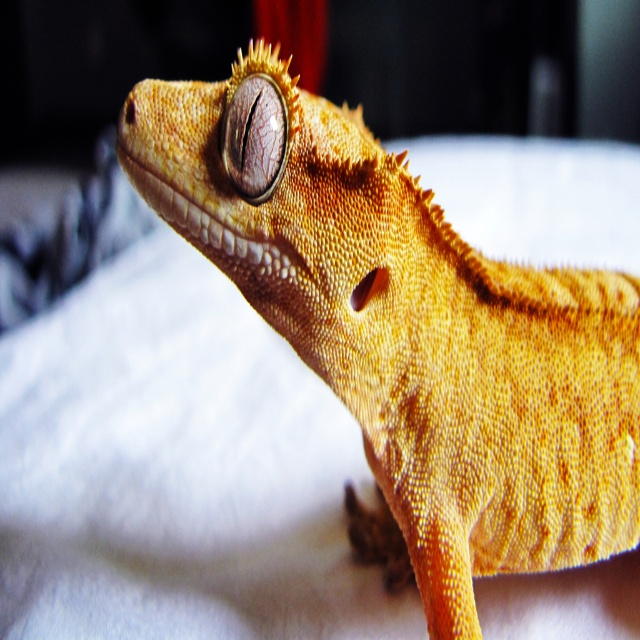Lizard: (139, 13, 640, 640)
